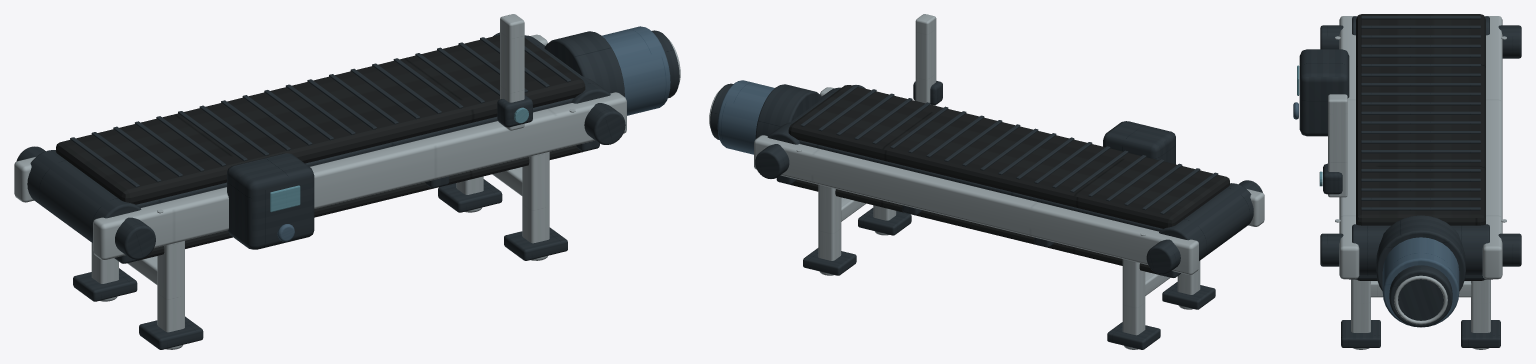
File: CONVEYOR-001.fbx
The picture shows the model from 3 angles, left to right: view 1: azimuth 30°, elevation 25°; view 2: azimuth 150°, elevation 25°; view 3: azimuth 270°, elevation 25°; orthographic projection. The views are drawn at different scales.
Parts seen in each view (by area): view 1: Belt_Top_Run, Long_Side_Rail, Conveyor_Control_Box, Idler_Drum, Motor_Case, Gearbox, Belt_Return_Run, Leg_Post, Leg_Post.002, Sensor_Bracket, Belt_Bed, Idler_Bearing_L (+11 smaller); view 2: Belt_Top_Run, Long_Side_Rail.001, Idler_Drum, Motor_Case, Belt_Return_Run, Conveyor_Control_Box, Gearbox, Sensor_Bracket, Leg_Post.001, Leg_Post.003, Belt_Bed, Drive_Bearing_R (+9 smaller); view 3: Belt_Top_Run, Long_Side_Rail.001, Conveyor_Control_Box, Long_Side_Rail, Motor_Case, Motor_Fan_Cover, Gearbox, Drive_Drum, Sensor_Bracket, Leg_Post.002, Leg_Post.003, Foot_Plate.002 (+29 smaller).
Boxes of the visible parts, x1,y1,x2,y2 form: Belt_Top_Run: (56, 35, 585, 204); Long_Side_Rail: (93, 92, 626, 259); Conveyor_Control_Box: (227, 153, 314, 249); Idler_Drum: (27, 150, 141, 242); Motor_Case: (602, 26, 670, 115); Gearbox: (544, 31, 624, 96); Belt_Return_Run: (138, 145, 583, 260); Leg_Post: (157, 241, 184, 332); Leg_Post.002: (522, 152, 549, 243); Sensor_Bracket: (500, 14, 524, 130); Belt_Bed: (136, 98, 573, 207); Idler_Bearing_L: (115, 217, 155, 259); Belt_Top_Run: (788, 85, 1229, 228); Long_Side_Rail.001: (754, 135, 1198, 274); Idler_Drum: (1159, 183, 1253, 260); Motor_Case: (717, 80, 774, 154); Belt_Return_Run: (790, 179, 1161, 275); Conveyor_Control_Box: (1103, 121, 1175, 164); Gearbox: (755, 84, 822, 138); Sensor_Bracket: (915, 14, 936, 105); Leg_Post.001: (1122, 259, 1145, 335); Leg_Post.003: (818, 184, 841, 260); Belt_Bed: (798, 140, 1162, 231); Drive_Bearing_R: (755, 144, 789, 178); Belt_Top_Run: (1356, 14, 1485, 225); Long_Side_Rail.001: (1482, 16, 1502, 279); Conveyor_Control_Box: (1299, 49, 1349, 136); Long_Side_Rail: (1339, 16, 1359, 279); Motor_Case: (1382, 237, 1459, 327); Motor_Fan_Cover: (1389, 265, 1452, 326); Gearbox: (1376, 215, 1465, 291); Drive_Drum: (1352, 224, 1489, 275); Sensor_Bracket: (1328, 94, 1347, 197); Leg_Post.002: (1351, 279, 1370, 332); Leg_Post.003: (1471, 279, 1490, 332); Foot_Plate.002: (1341, 320, 1380, 347).
Bounding box in the file's own units: 3.84 × 1.55 × 1.37.
